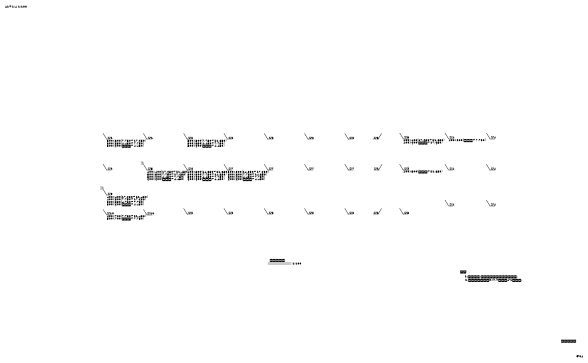window: (244, 139, 250, 155), (184, 139, 190, 155), (124, 139, 130, 155), (446, 347, 452, 363), (446, 261, 452, 277), (446, 139, 452, 155), (64, 261, 70, 277), (124, 261, 130, 277), (184, 261, 190, 277), (244, 261, 250, 277), (64, 346, 70, 361), (124, 346, 130, 361), (184, 346, 190, 361), (244, 346, 250, 361), (64, 137, 70, 152), (414, 139, 419, 155), (365, 139, 370, 155), (305, 139, 310, 155), (514, 347, 519, 363), (576, 347, 581, 363), (576, 261, 581, 277), (576, 162, 581, 178), (514, 162, 519, 178), (514, 261, 519, 277), (4, 261, 9, 277), (305, 261, 310, 277), (415, 261, 420, 277), (365, 261, 370, 277), (4, 191, 9, 207), (4, 346, 9, 361), (305, 346, 310, 361), (365, 346, 370, 361), (414, 346, 419, 361), (4, 137, 9, 152), (519, 340, 525, 347), (10, 331, 15, 338), (452, 340, 457, 347), (70, 239, 75, 246), (10, 138, 15, 145), (70, 138, 75, 145), (11, 192, 16, 199), (130, 331, 135, 338), (10, 163, 15, 170), (130, 239, 135, 246), (190, 239, 195, 246), (11, 347, 16, 353), (10, 339, 15, 345), (10, 325, 15, 331), (71, 347, 76, 353), (131, 347, 136, 353), (191, 347, 196, 353), (251, 347, 256, 353), (311, 347, 316, 353), (371, 347, 376, 353), (408, 347, 413, 353), (408, 140, 413, 146), (371, 140, 376, 146), (311, 140, 316, 146), (251, 140, 256, 146), (191, 140, 196, 146), (131, 140, 136, 146), (453, 348, 458, 354), (453, 262, 458, 268), (453, 140, 458, 146), (521, 348, 526, 354), (583, 348, 588, 354), (583, 262, 588, 268), (583, 163, 588, 169), (521, 163, 526, 169), (521, 262, 526, 268), (11, 262, 16, 268), (71, 262, 76, 268), (70, 233, 75, 239), (70, 253, 75, 259), (131, 262, 136, 268), (130, 253, 135, 259), (191, 262, 196, 268), (251, 262, 256, 268), (311, 262, 316, 268), (408, 262, 413, 268), (371, 262, 376, 268), (130, 339, 135, 345), (130, 325, 135, 331), (190, 253, 195, 259), (10, 131, 15, 137), (10, 124, 15, 130), (10, 177, 15, 183), (10, 170, 15, 176), (10, 184, 15, 190), (452, 254, 457, 260), (452, 334, 457, 340), (70, 246, 75, 252), (130, 233, 135, 239), (130, 246, 135, 252), (190, 233, 195, 239), (190, 246, 195, 252)
